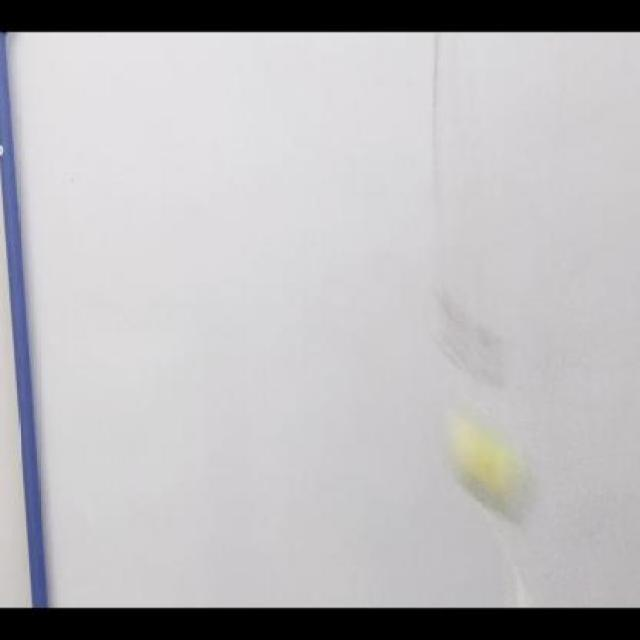baseball: (439, 406, 535, 528)
